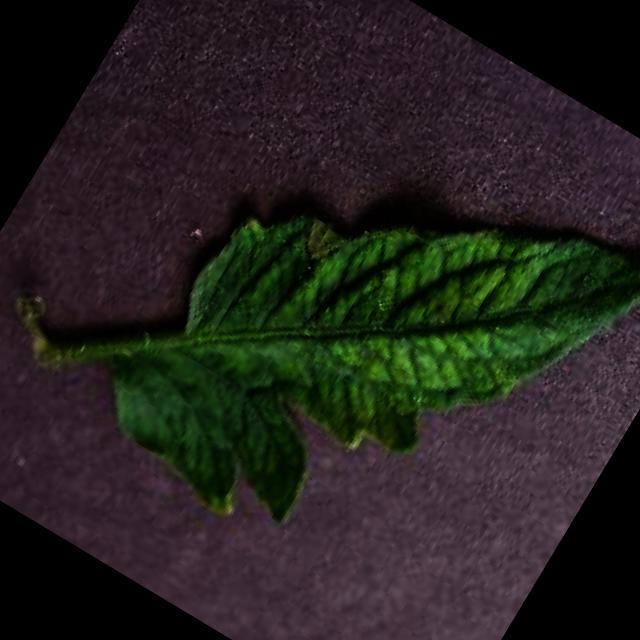Tomato mosaic virus leaf: (75, 31, 640, 640)
